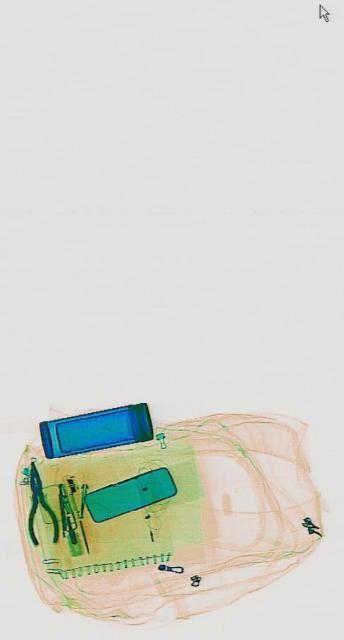Pliers: (17, 453, 59, 552)
